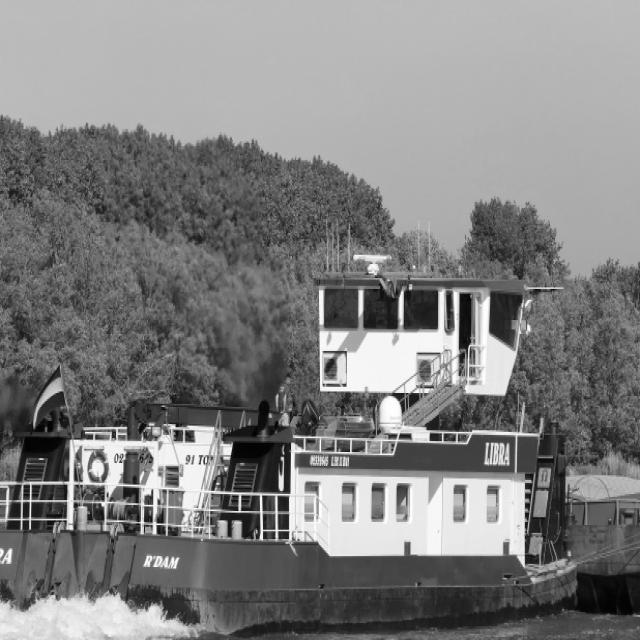tugboat: (1, 248, 582, 640)
